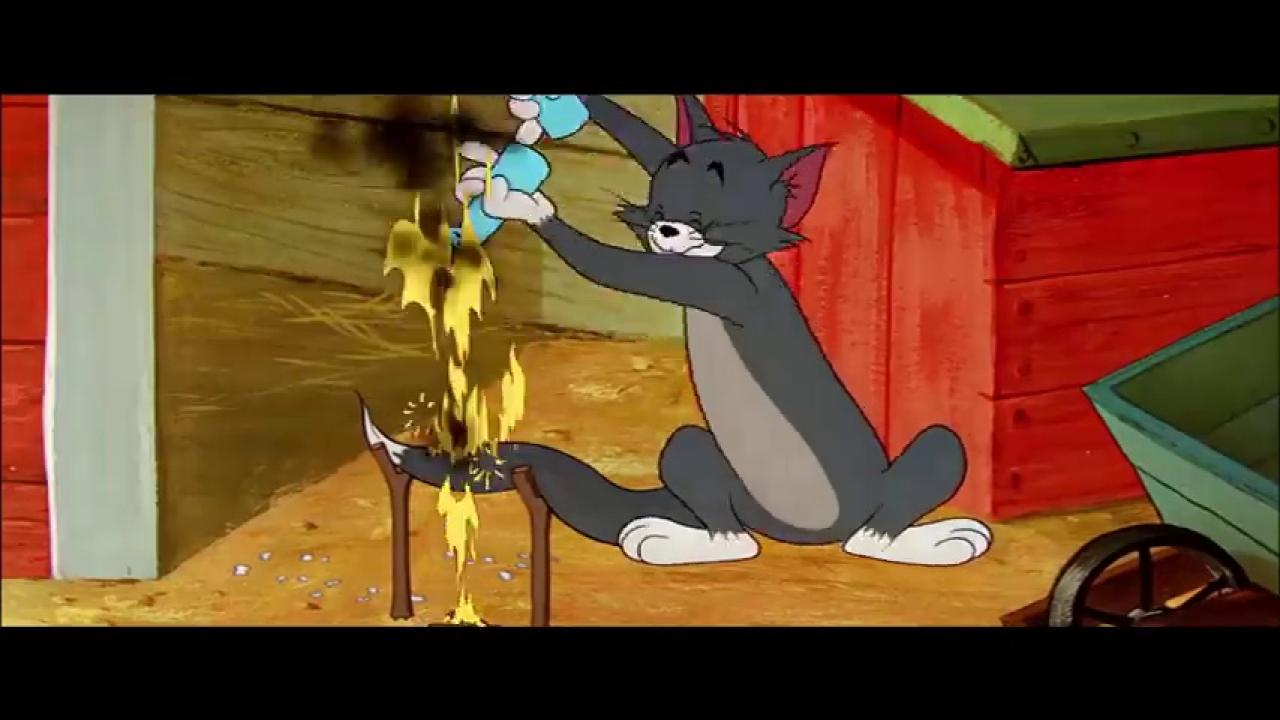Tom: (354, 95, 998, 567)
